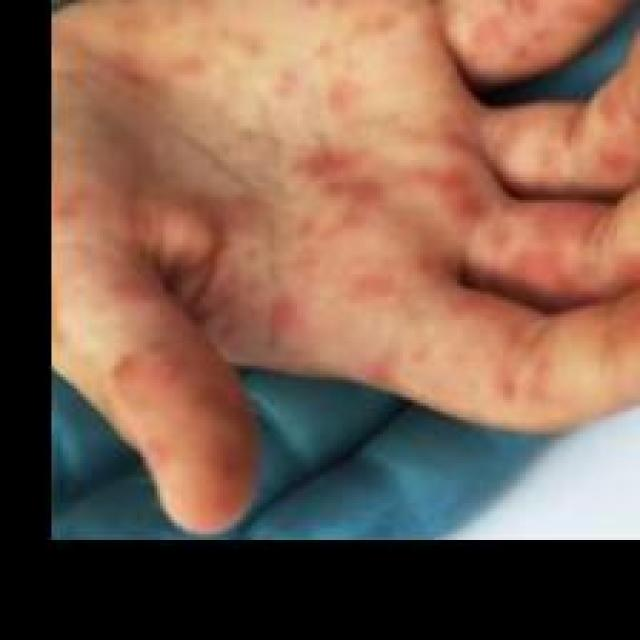others: (56, 0, 640, 533)
